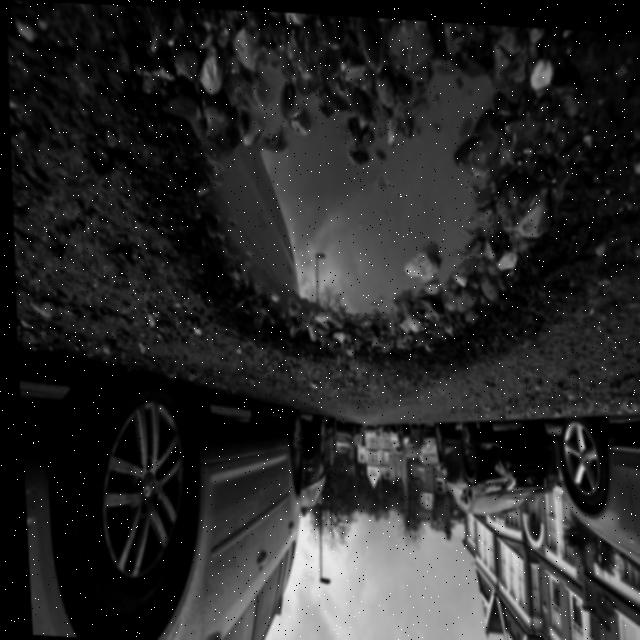Pothole: (170, 6, 568, 441)
